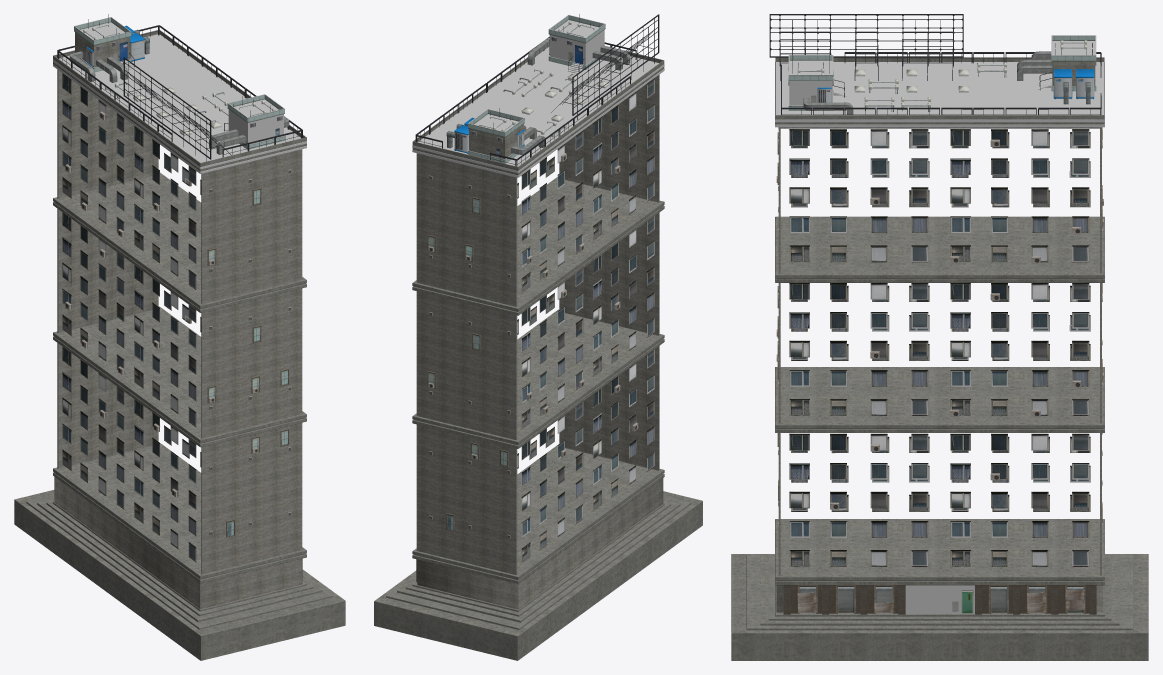
File: u2NEBuild12.gltf
The picture shows the model from 3 angles, left to right: view 1: azimuth 30°, elevation 25°; view 2: azimuth 150°, elevation 25°; view 3: azimuth 270°, elevation 25°; orthographic projection. The views are drawn at different scales.
Visible parts, largest first — view 1: u2NEBuild12; view 2: u2NEBuild12; view 3: u2NEBuild12.
Boxes of the visible parts, box(x1,y1,x2,y2) form: u2NEBuild12: box(14, 14, 345, 660); u2NEBuild12: box(374, 14, 702, 660); u2NEBuild12: box(731, 14, 1148, 660).
Size of the model in its own units: 6.7 by 23.02 by 14.95.
